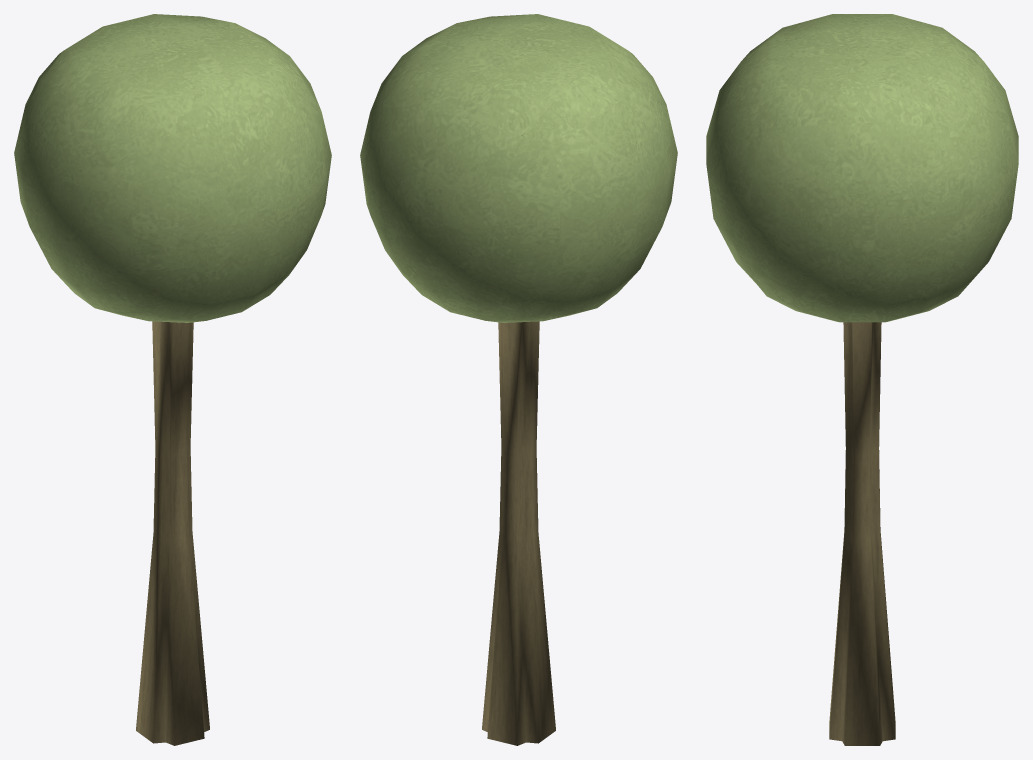
Rendered from THETREE4.FBX.
3 views of the same model, side by side, from view 1: azimuth 30°, elevation 25°; view 2: azimuth 150°, elevation 25°; view 3: azimuth 270°, elevation 25° (orthographic).
Visible parts, largest first — view 1: Tree003; view 2: Tree003; view 3: Tree003.
Part boxes in pixels (<box>): Tree003: <box>14,14,331,745</box>; Tree003: <box>360,14,677,745</box>; Tree003: <box>706,14,1018,745</box>.
Size of the model in its own units: 48.24 by 117 by 48.24.
